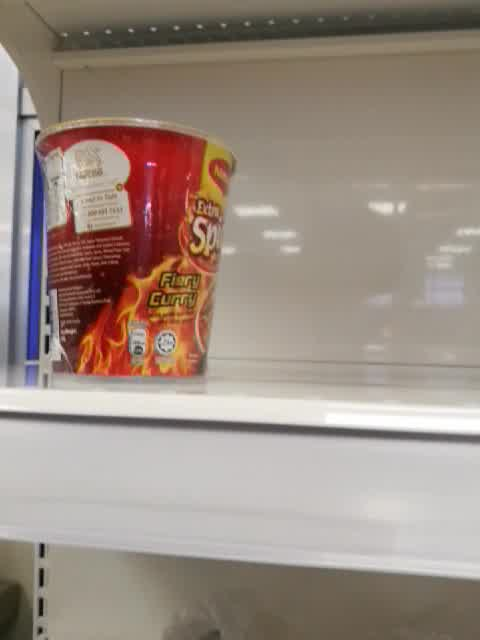maggi: (33, 115, 238, 386)
